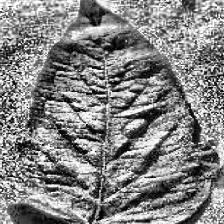spider mites: (1, 0, 218, 224)
